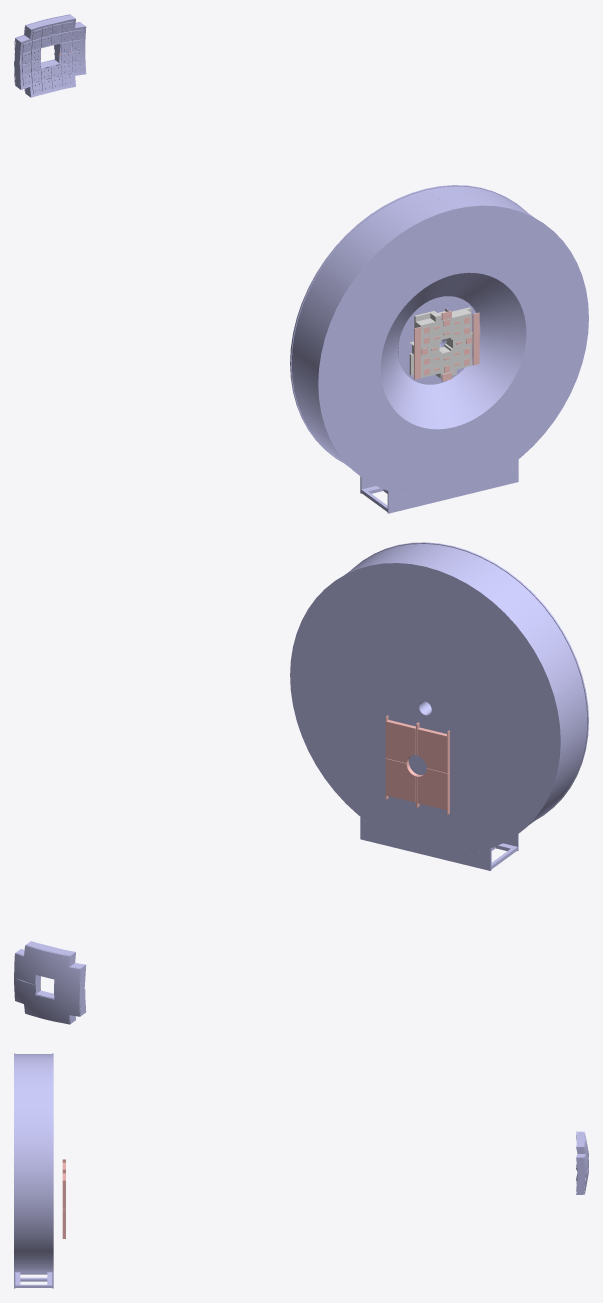
The model's file is FIT.glb.
The picture shows the model from 3 angles, top to bottom: view 1: azimuth 30°, elevation 25°; view 2: azimuth 150°, elevation 25°; view 3: azimuth 270°, elevation 25°; orthographic projection. The views are drawn at different scales.
Parts seen in each view (by area): view 1: object 2, object 1, shellVol_1.001, shellVol_2.001; view 2: object 2, backPlateVol_3.001, backPlateVol_4.001, FDApad_1.001, FDApad_1.003, FDApad_1.007, FDApad_1.005, shellVol_1.001; view 3: object 2, shellVol_1.001.
Boxes of the visible parts, x1=… form: object 2: x1=290, y1=185, x2=588, y2=513; object 1: x1=409, y1=307, x2=472, y2=378; shellVol_1.001: x1=14, y1=15, x2=86, y2=65; shellVol_2.001: x1=14, y1=49, x2=86, y2=97; object 2: x1=290, y1=542, x2=588, y2=870; backPlateVol_3.001: x1=14, y1=945, x2=80, y2=993; backPlateVol_4.001: x1=14, y1=978, x2=80, y2=1024; FDApad_1.001: x1=386, y1=720, x2=415, y2=763; FDApad_1.003: x1=417, y1=727, x2=446, y2=772; FDApad_1.007: x1=386, y1=758, x2=417, y2=802; FDApad_1.005: x1=417, y1=768, x2=446, y2=810; shellVol_1.001: x1=16, y1=941, x2=86, y2=992; object 2: x1=14, y1=1053, x2=53, y2=1288; shellVol_1.001: x1=576, y1=1131, x2=585, y2=1174.
Bounding box in the file's own units: 166 × 169 × 435.
